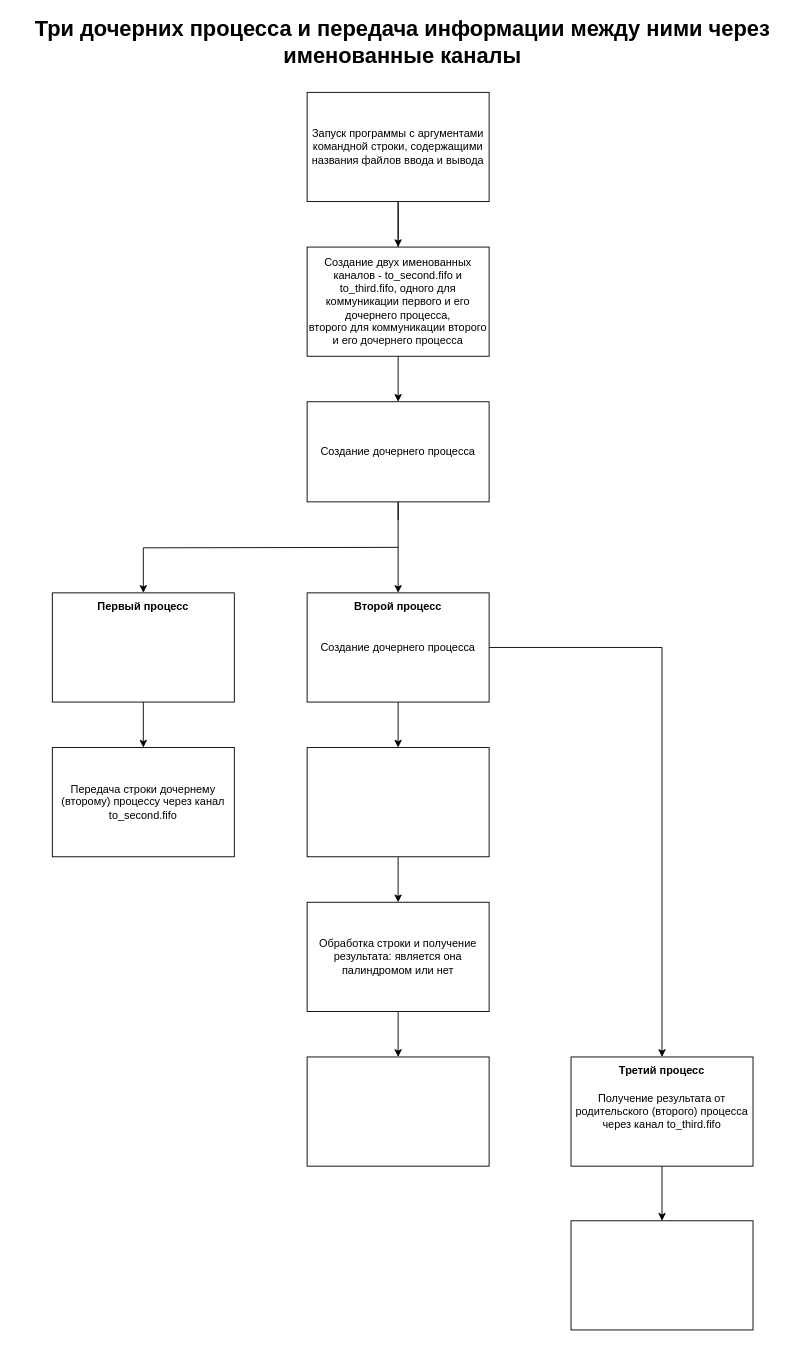
This 804x1346 diagram has some shape labels left out. The box of each missing label's shape, as (x1, y1, x2, y2) in pixels:
Ввод строки из указанного при запуске программы файла ввода: (51, 592, 234, 702)
Вывод результата в указанный при запуске программы файл вывода: (570, 1220, 753, 1330)
Передача результата дочернему (третьему) процессу через канал to_third.fifo: (306, 1056, 489, 1166)
Получение строки от родительского (первого) процесса через канал to_second.fifo: (306, 747, 489, 857)
